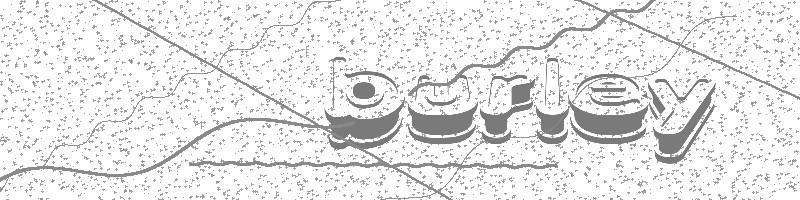b: (324, 55, 405, 151)
e: (570, 71, 648, 145)
l: (536, 56, 571, 145)
r: (479, 73, 535, 146)
u: (407, 74, 477, 145)
y: (648, 78, 716, 165)
